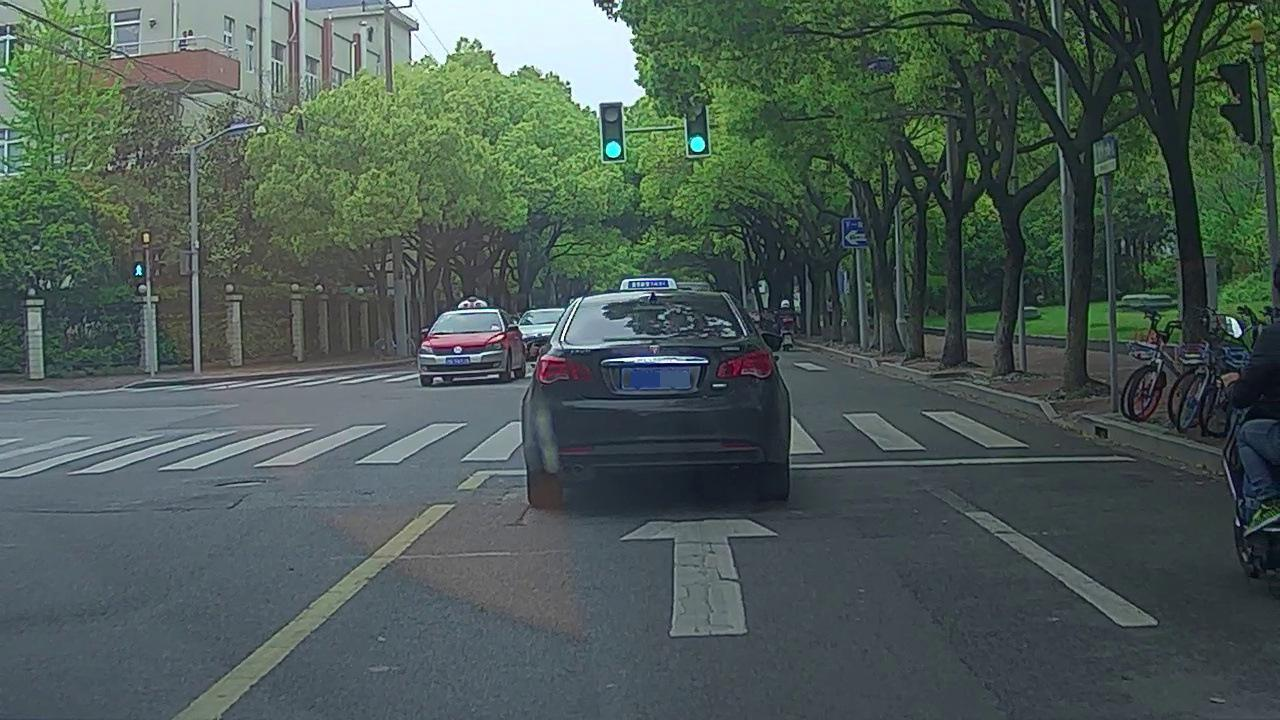traffic_light: (601, 105, 624, 161), (686, 105, 708, 153)
